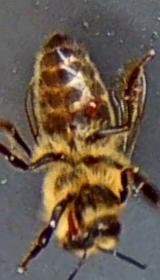varroa_mite: (73, 85, 116, 126)
